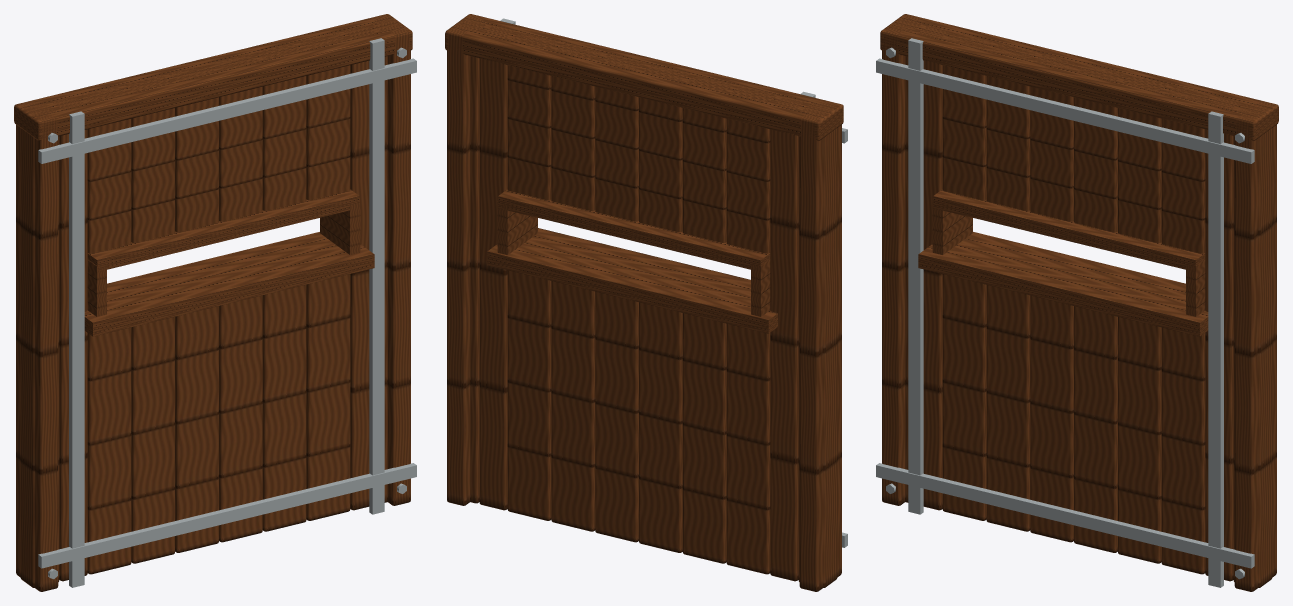
Rendered from modular-survival-base-builder-wall-loophole-reinforced-f734d2d6__24293.glb.
The picture shows the model from 3 angles, left to right: view 1: azimuth 30°, elevation 25°; view 2: azimuth 150°, elevation 25°; view 3: azimuth 330°, elevation 25°; orthographic projection.
Parts seen in each view (by area): view 1: wall-loophole-reinforced; view 2: wall-loophole-reinforced; view 3: wall-loophole-reinforced.
Part boxes in pixels (bbox=[...]): wall-loophole-reinforced: bbox=[14, 14, 416, 591]; wall-loophole-reinforced: bbox=[445, 14, 847, 591]; wall-loophole-reinforced: bbox=[876, 14, 1278, 591].
Bounding box in the file's own units: 2 × 2.4 × 0.3399.
2 materials, 1 textured.
